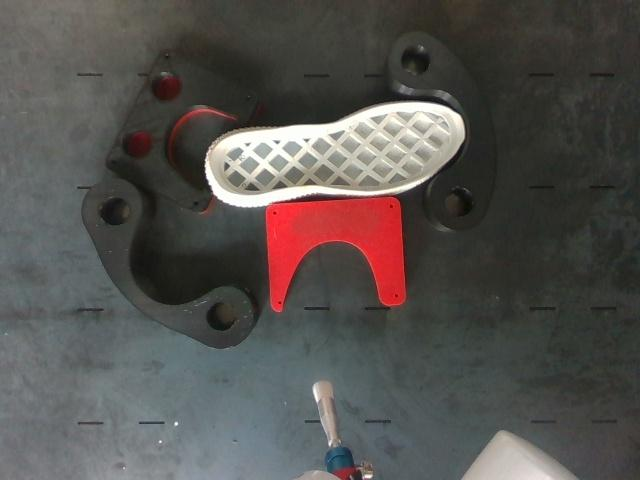shoes: (208, 104, 465, 196)
